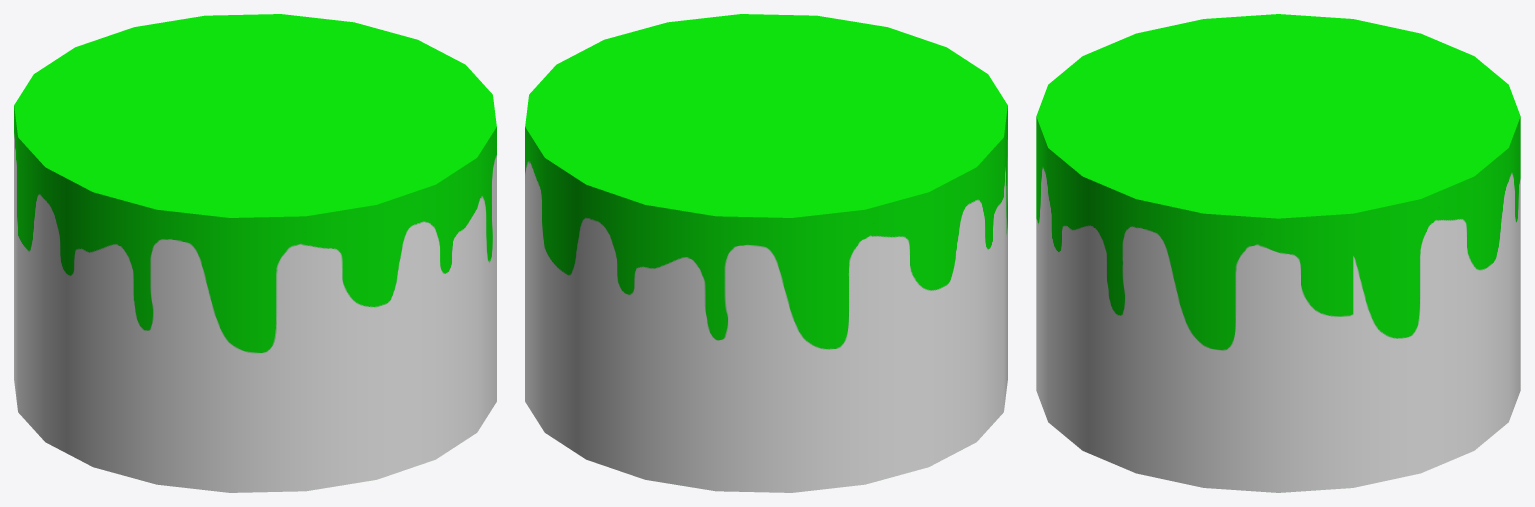
File: GreenSmall.fbx
The picture shows the model from 3 angles, left to right: view 1: azimuth 30°, elevation 25°; view 2: azimuth 150°, elevation 25°; view 3: azimuth 270°, elevation 25°; orthographic projection.
Parts seen in each view (by area): view 1: GreenSmall; view 2: GreenSmall; view 3: GreenSmall.
Boxes of the visible parts, left/top/right/bottom form: GreenSmall: left=14, top=14, right=496, bottom=492; GreenSmall: left=525, top=14, right=1007, bottom=492; GreenSmall: left=1036, top=14, right=1520, bottom=492.
Size of the model in its own units: 400 by 250 by 400.
